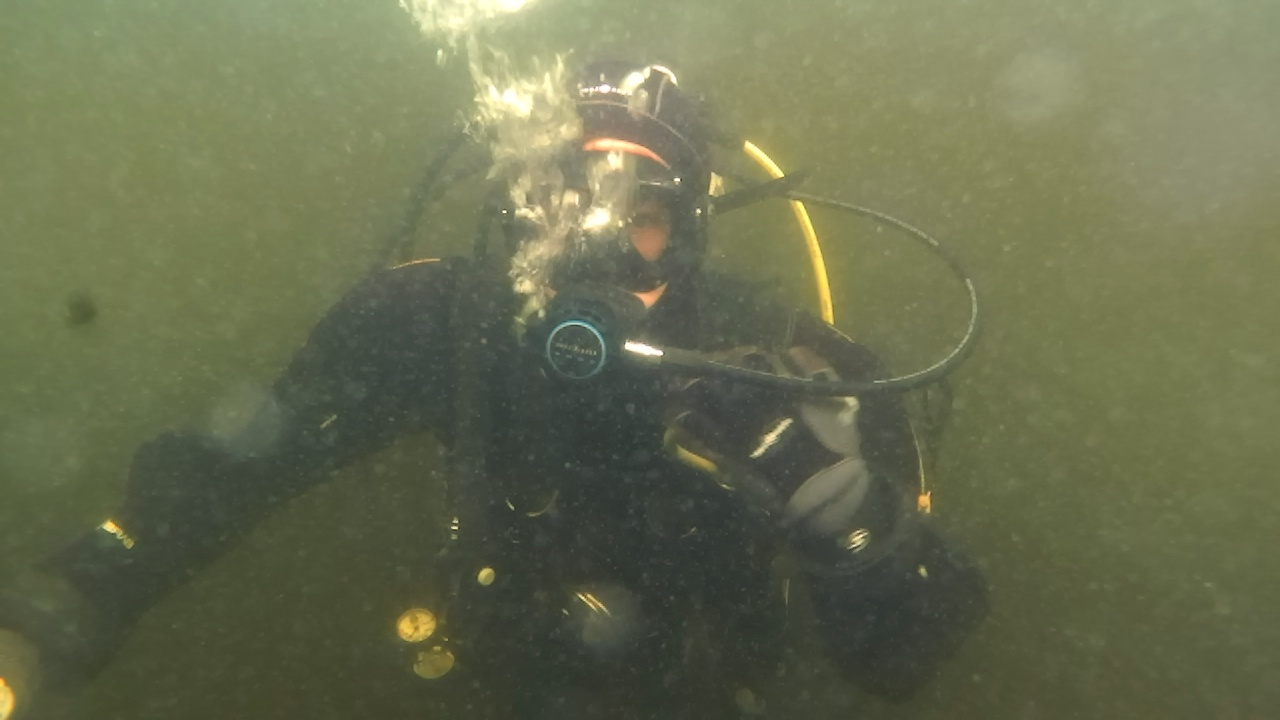Hand: (644, 330, 912, 572)
Head: (482, 60, 720, 384)
